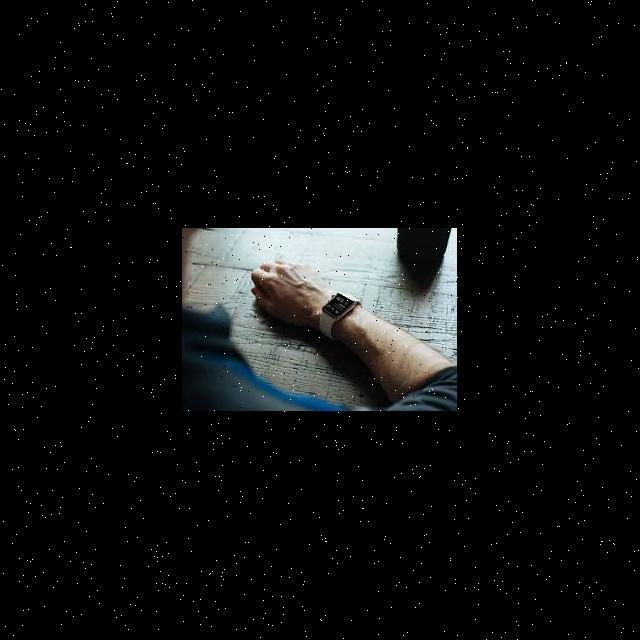watch: (302, 285, 380, 336)
